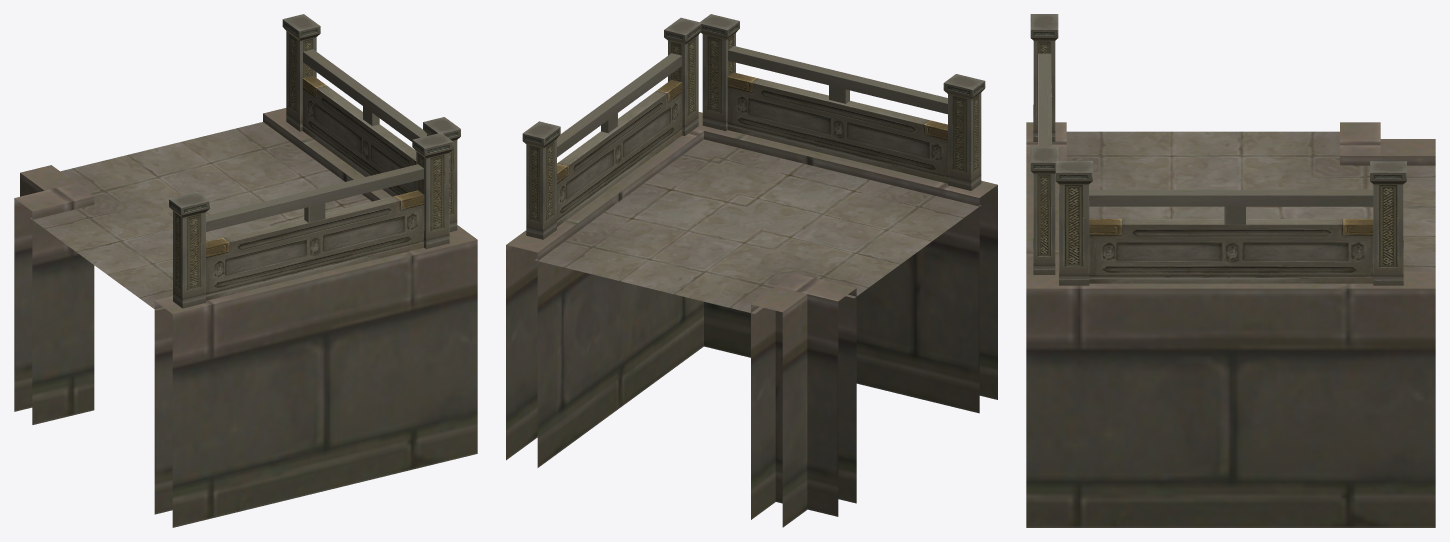
File: s7_qianchongta_neibu_jianzhu001_qiao03.FBX
3 views of the same model, side by side, from view 1: azimuth 30°, elevation 25°; view 2: azimuth 150°, elevation 25°; view 3: azimuth 270°, elevation 25° (orthographic). The views are drawn at different scales.
Parts seen in each view (by area): view 1: Object001; view 2: Object001; view 3: Object001.
Boxes of the visible parts, x1=… form: Object001: x1=14, y1=14, x2=477, y2=527; Object001: x1=506, y1=14, x2=997, y2=527; Object001: x1=1026, y1=14, x2=1435, y2=527.
Size of the model in its own units: 5.69 by 5.64 by 5.92.
